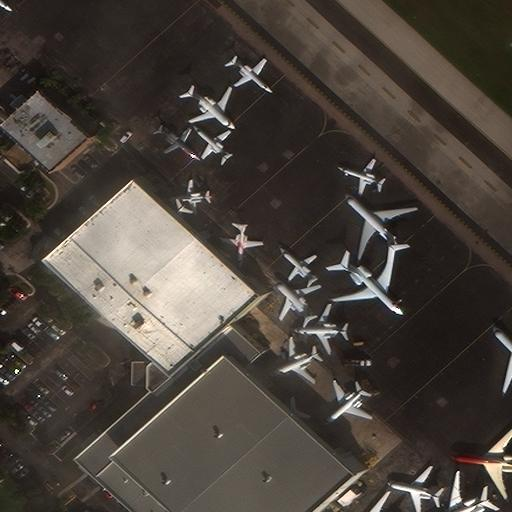Medium Civil Transport: (345, 192, 416, 258), (333, 250, 403, 314), (450, 427, 511, 499), (293, 303, 347, 355), (387, 466, 440, 512), (270, 336, 320, 384), (432, 471, 490, 512), (323, 381, 371, 425), (186, 86, 234, 129), (273, 279, 318, 321), (493, 325, 511, 392)
Small Civil Transport: (219, 223, 263, 268), (336, 157, 382, 195), (168, 180, 212, 215), (229, 59, 272, 93), (157, 128, 199, 161), (279, 247, 314, 283), (193, 125, 230, 159)
